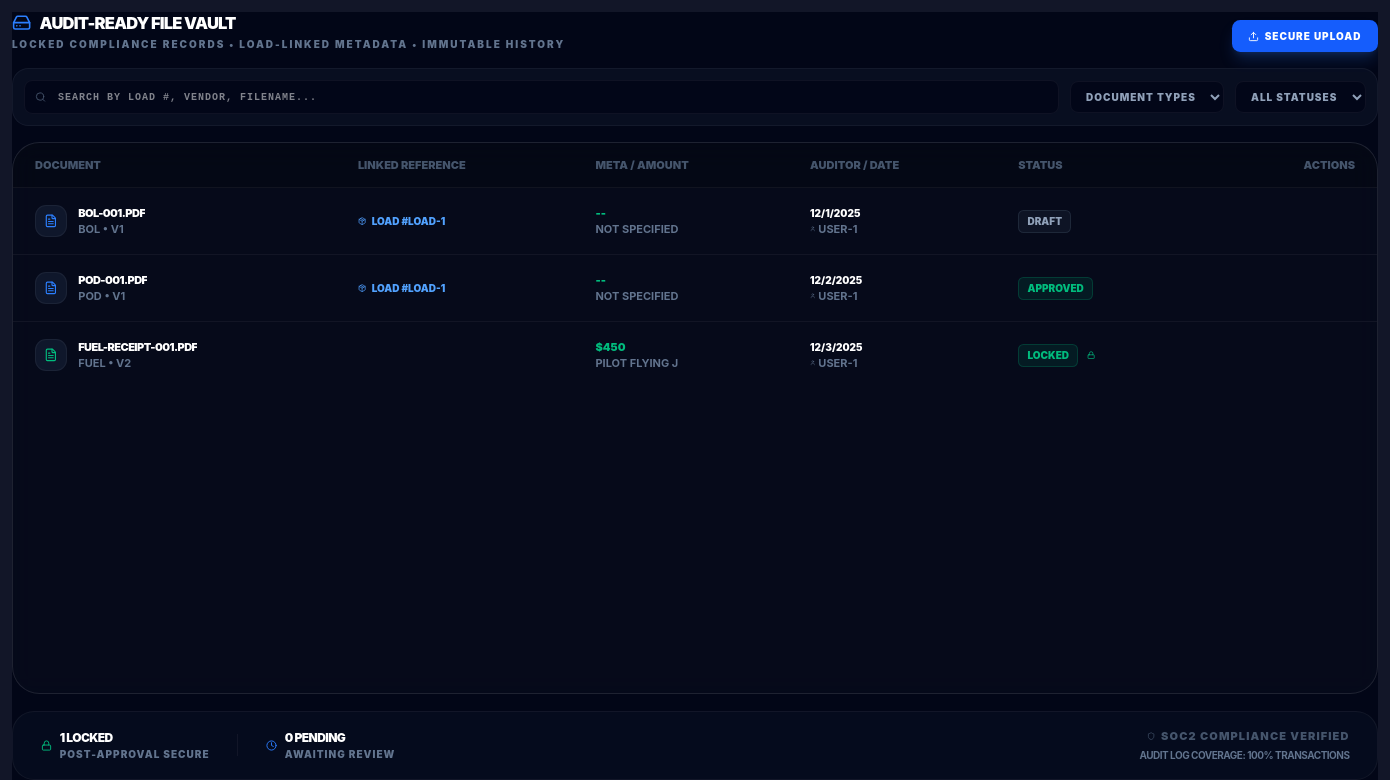
Test: FileVault — document upload and review (R-FS-06-03) › filters documents by type when type filter is changed
Expected: the text "BOL-001.pdf" is shown, [78,205,145,221]
Select "FUEL RECEIPT" in the dropdown named "Filter by document type" at (1147, 97), box [1070,81,1224,113]
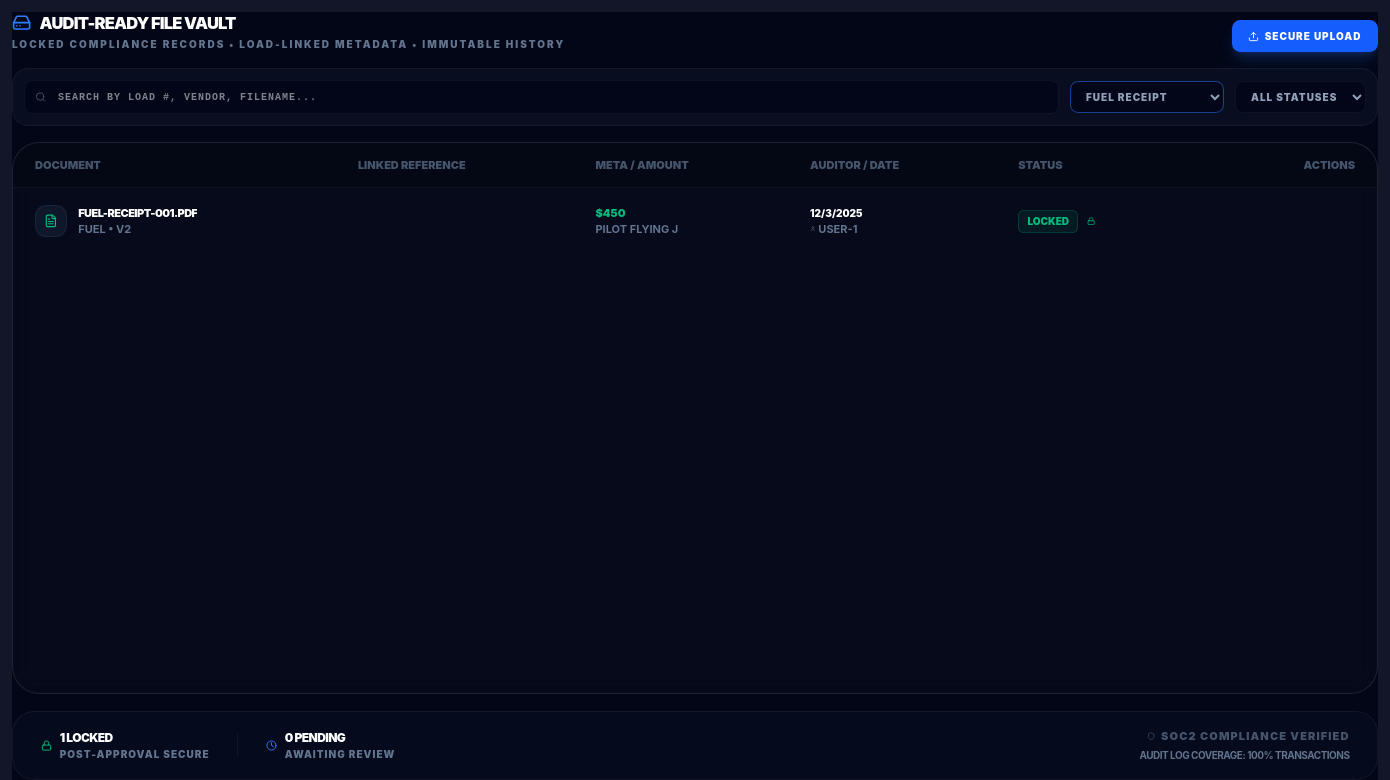
Expected: the text "Fuel-Receipt-001.pdf" is shown, [78,205,198,221]
Result: the text "BOL-001.pdf" is gone
